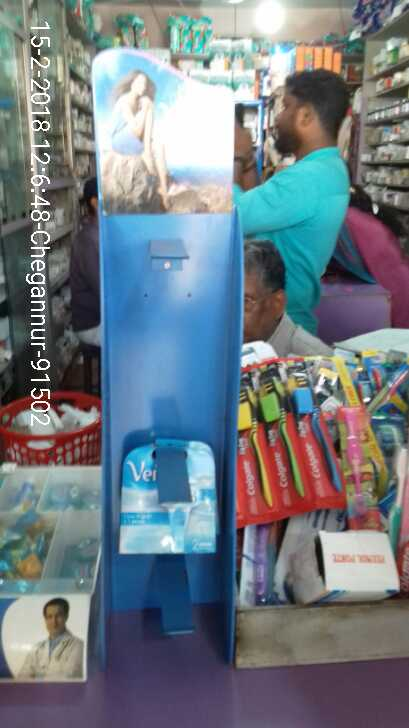venus: (117, 447, 221, 564)
